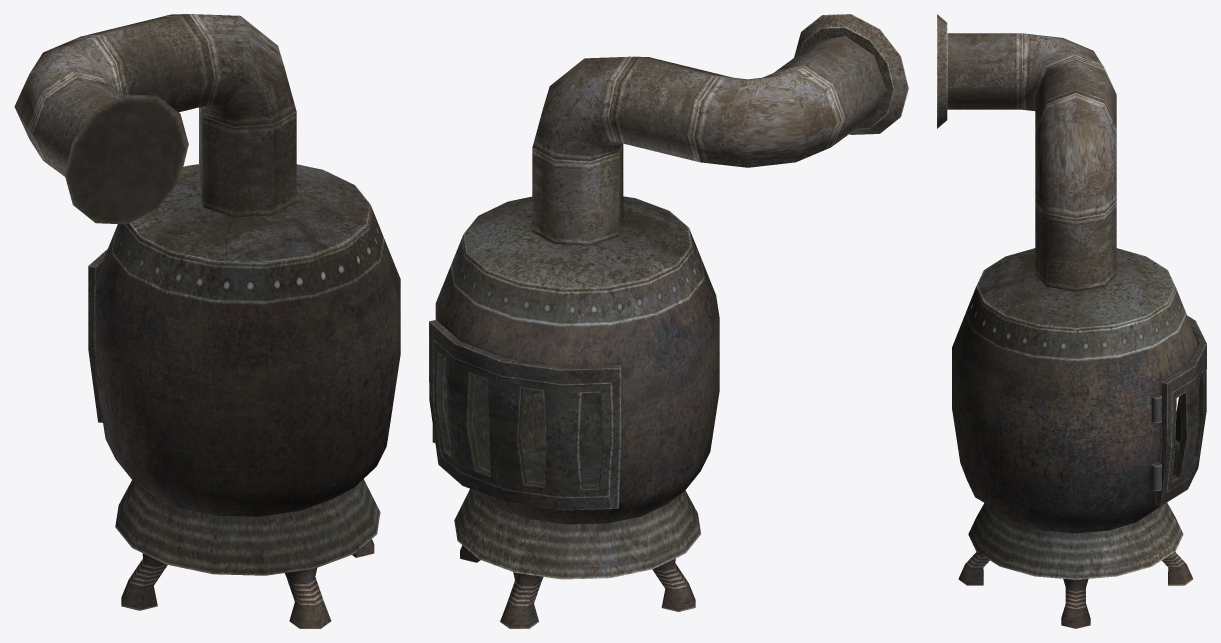
Rendered from stove_metal.dae.
3 views of the same model, side by side, from view 1: azimuth 30°, elevation 25°; view 2: azimuth 150°, elevation 25°; view 3: azimuth 270°, elevation 25° (orthographic). The views are drawn at different scales.
Visible parts, largest first — view 1: Stove01_PIVOT, Stove07_PIVOT, Stove03_PIVOT, Stove04_PIVOT, Stove05_PIVOT, Stove06_PIVOT, Stove02; view 2: Stove01_PIVOT, Stove02, Stove06_PIVOT, Stove07_PIVOT, Stove05_PIVOT, Stove03_PIVOT, Stove04_PIVOT; view 3: Stove01_PIVOT, Stove04_PIVOT, Stove07_PIVOT, Stove02, Stove03_PIVOT, Stove05_PIVOT, Stove06_PIVOT.
Boxes of the visible parts, bbox=[...] form: Stove01_PIVOT: bbox=[95, 164, 400, 628]; Stove07_PIVOT: bbox=[30, 75, 188, 224]; Stove03_PIVOT: bbox=[199, 108, 296, 217]; Stove04_PIVOT: bbox=[190, 14, 296, 126]; Stove05_PIVOT: bbox=[81, 14, 214, 112]; Stove06_PIVOT: bbox=[14, 36, 122, 159]; Stove02: bbox=[88, 249, 107, 422]; Stove01_PIVOT: bbox=[435, 196, 719, 628]; Stove02: bbox=[429, 320, 621, 510]; Stove06_PIVOT: bbox=[693, 67, 842, 167]; Stove07_PIVOT: bbox=[774, 14, 908, 146]; Stove05_PIVOT: bbox=[608, 56, 732, 162]; Stove03_PIVOT: bbox=[532, 144, 623, 246]; Stove04_PIVOT: bbox=[532, 56, 631, 161]; Stove01_PIVOT: bbox=[952, 248, 1198, 628]; Stove04_PIVOT: bbox=[1035, 93, 1116, 218]; Stove07_PIVOT: bbox=[937, 14, 1021, 128]; Stove02: bbox=[1151, 315, 1206, 505]; Stove03_PIVOT: bbox=[1035, 202, 1116, 291]; Stove05_PIVOT: bbox=[1035, 57, 1116, 129]; Stove06_PIVOT: bbox=[1022, 33, 1104, 110].
Size of the model in its own units: 1.1 by 0.7953 by 1.56.
